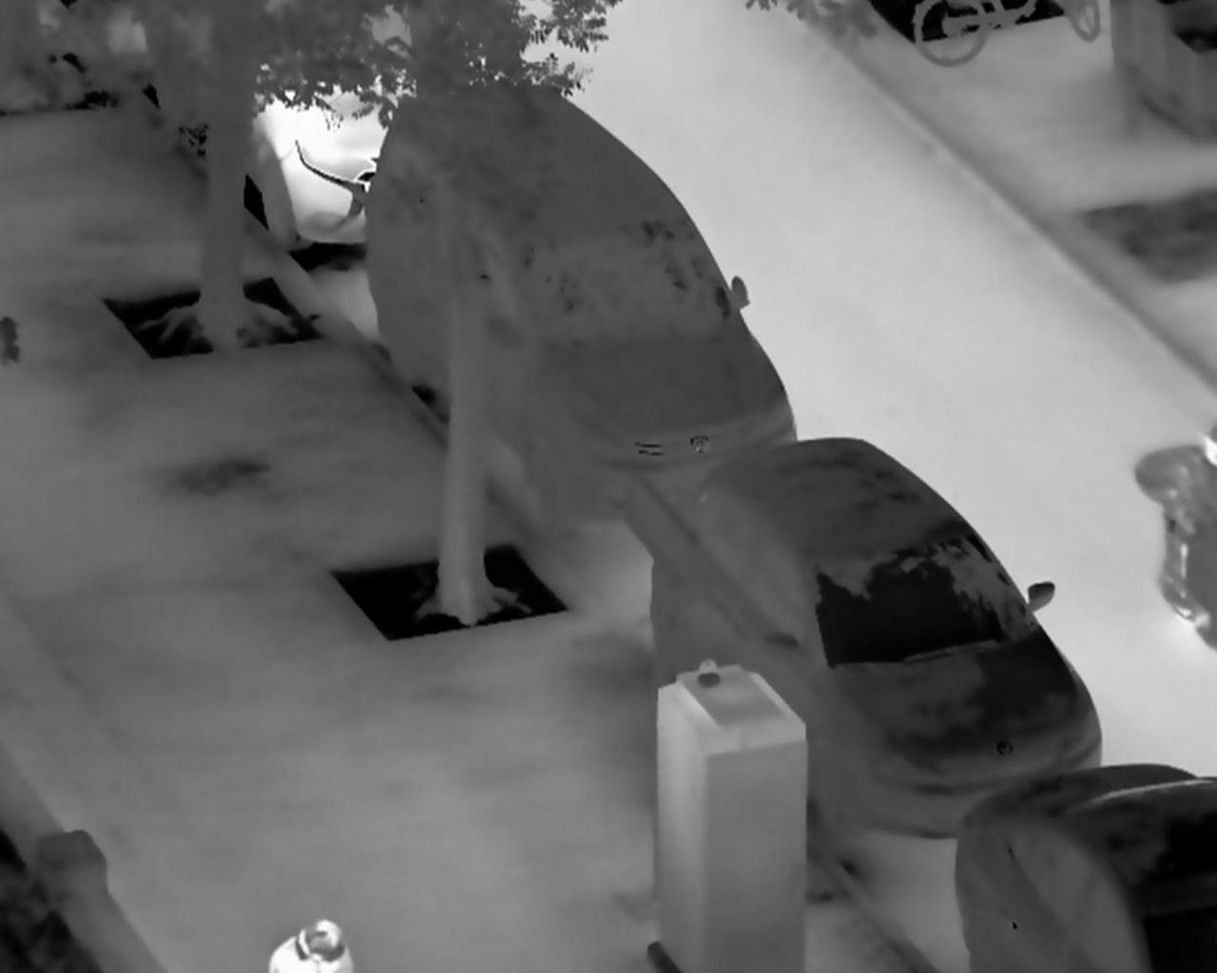person: (1167, 422, 1216, 626), (265, 910, 365, 973)
